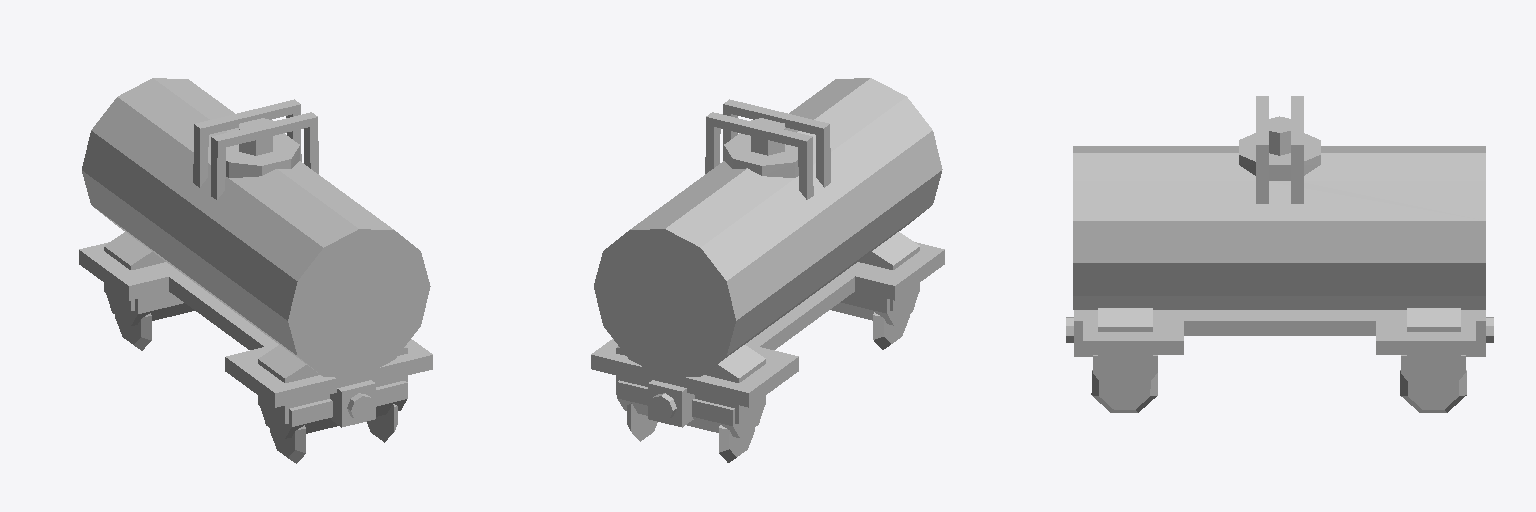
The model's file is SM_Veh_Carriage_Cylinder_02.obj.
3 views of the same model, side by side, from view 1: azimuth 30°, elevation 25°; view 2: azimuth 150°, elevation 25°; view 3: azimuth 270°, elevation 25° (orthographic).
Visible parts, largest first — view 1: SM_Veh_Carriage_Cylinder_02:Mesh; view 2: SM_Veh_Carriage_Cylinder_02:Mesh; view 3: SM_Veh_Carriage_Cylinder_02:Mesh.
Boxes of the visible parts, x1=… form: SM_Veh_Carriage_Cylinder_02:Mesh: x1=79, y1=78, x2=432, y2=463; SM_Veh_Carriage_Cylinder_02:Mesh: x1=591, y1=78, x2=944, y2=462; SM_Veh_Carriage_Cylinder_02:Mesh: x1=1066, y1=96, x2=1493, y2=412.
Bounding box in the file's own units: 4.6 × 7.54 × 10.77.